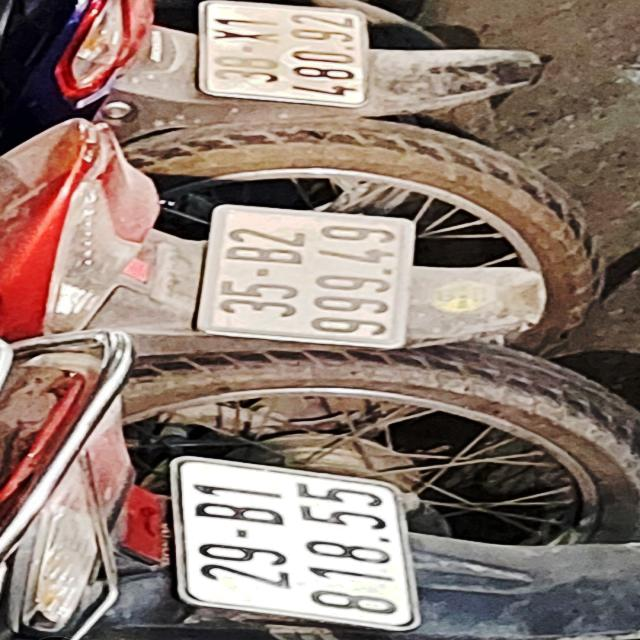license_plate: (167, 454, 423, 632), (189, 197, 422, 353), (197, 1, 372, 112)
